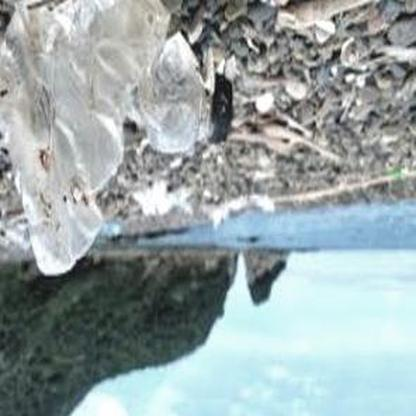plastic bottle: (1, 1, 232, 274)
